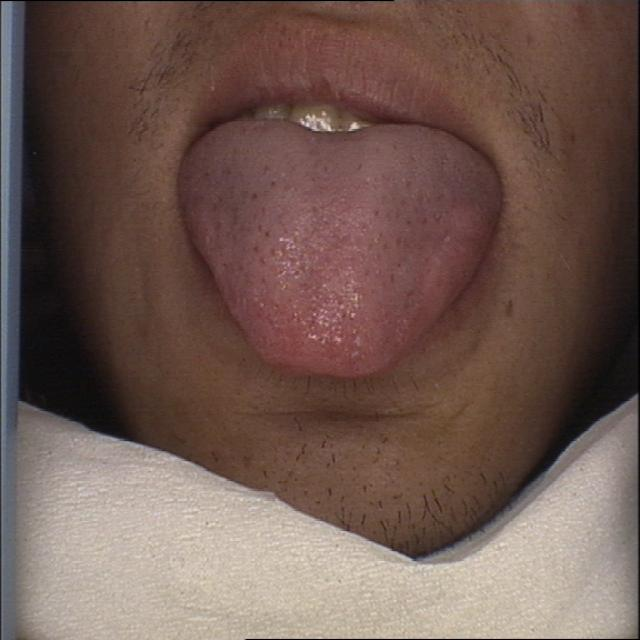tongue: (166, 120, 509, 383)
